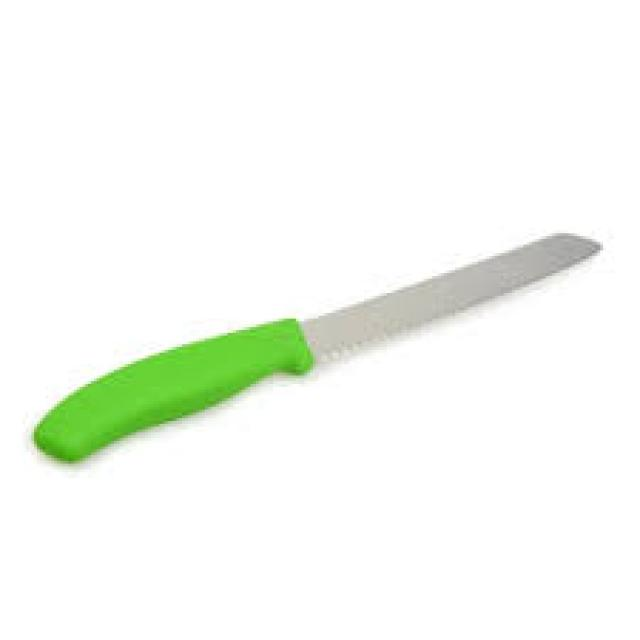Knife: (31, 233, 600, 461)
